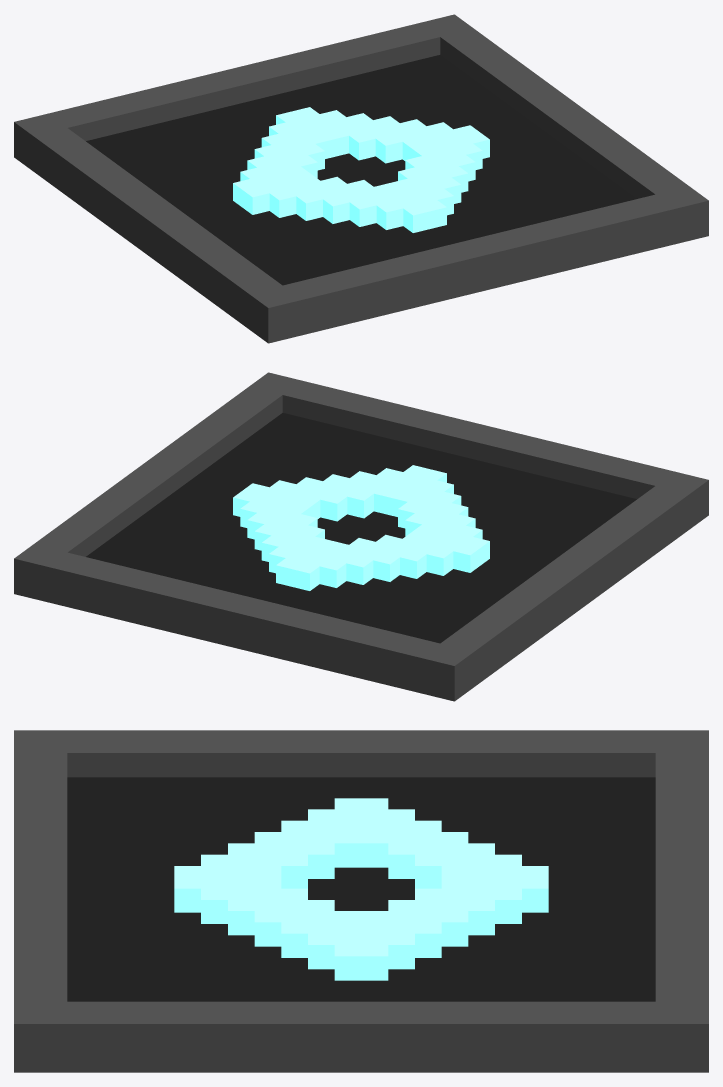
Rendered from trap_DIAMOND_TEAL.glb.
The picture shows the model from 3 angles, top to bottom: view 1: azimuth 30°, elevation 25°; view 2: azimuth 150°, elevation 25°; view 3: azimuth 270°, elevation 25°; orthographic projection. The views are drawn at different scales.
Parts seen in each view (by area): view 1: item_TRAP_DIAMOND_TEAL; view 2: item_TRAP_DIAMOND_TEAL; view 3: item_TRAP_DIAMOND_TEAL.
Part boxes in pixels (x1,y1,x2,y2): item_TRAP_DIAMOND_TEAL: [14, 14, 708, 343]; item_TRAP_DIAMOND_TEAL: [14, 372, 708, 701]; item_TRAP_DIAMOND_TEAL: [14, 730, 708, 1072].
Size of the model in its own units: 0.5909 by 0.0455 by 0.5909.
Materials: 1 (1 with a texture image).
